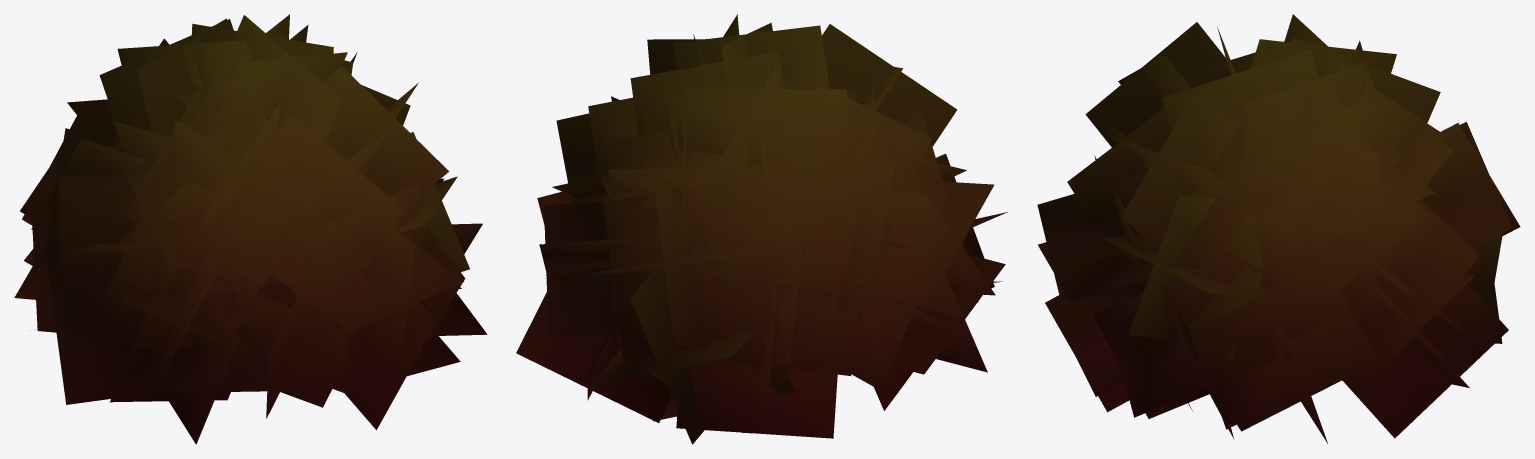
File: TEM_Bush_02A.fbx
3 views of the same model, side by side, from view 1: azimuth 30°, elevation 25°; view 2: azimuth 150°, elevation 25°; view 3: azimuth 270°, elevation 25° (orthographic).
Parts seen in each view (by area): view 1: TEM_Bush_02A_LOD0; view 2: TEM_Bush_02A_LOD0; view 3: TEM_Bush_02A_LOD0.
Part boxes in pixels (<box>): TEM_Bush_02A_LOD0: <box>14,14,487,444</box>; TEM_Bush_02A_LOD0: <box>516,14,1007,444</box>; TEM_Bush_02A_LOD0: <box>1037,14,1520,443</box>.
Size of the model in its own units: 201 by 161 by 200.
